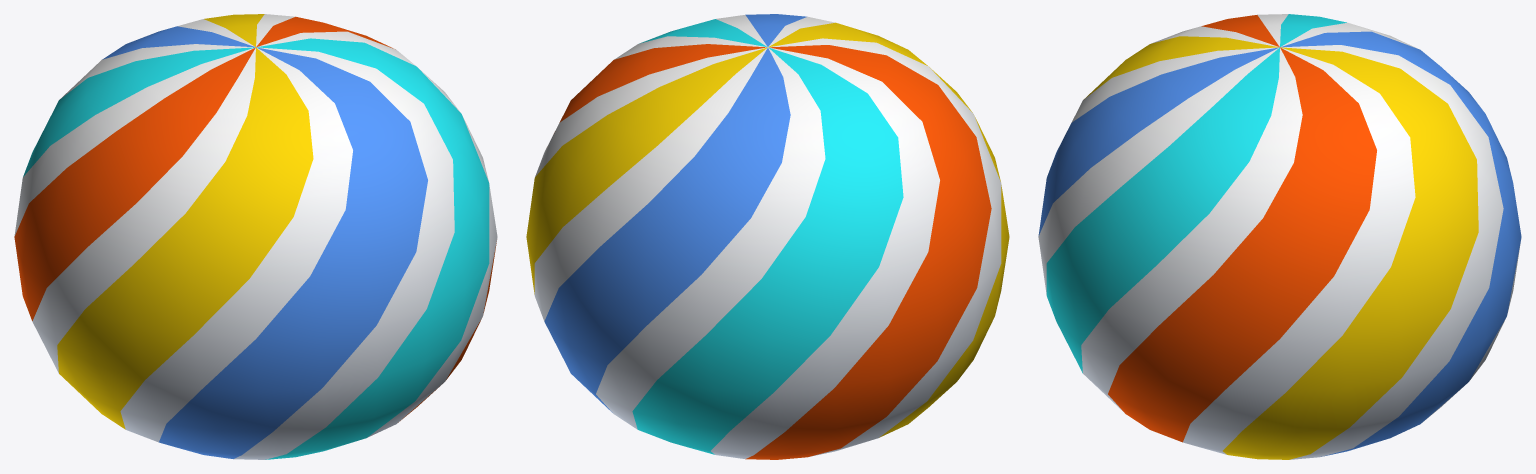
The model's file is lollipop_005.glb.
The picture shows the model from 3 angles, left to right: view 1: azimuth 30°, elevation 25°; view 2: azimuth 150°, elevation 25°; view 3: azimuth 270°, elevation 25°; orthographic projection.
Parts seen in each view (by area): view 1: lollipop_005; view 2: lollipop_005; view 3: lollipop_005.
Part boxes in pixels (<box>): lollipop_005: <box>14,14,497,459</box>; lollipop_005: <box>526,14,1009,459</box>; lollipop_005: <box>1038,14,1521,459</box>.
Bounding box in the file's own units: 2.1 × 1.82 × 2.1.
1 material, 1 textured.
